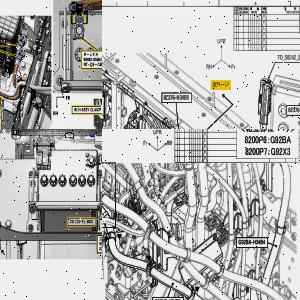PartNumber: (238, 239, 265, 245), (163, 94, 189, 100), (82, 56, 102, 62), (288, 106, 300, 112), (154, 298, 181, 300)
